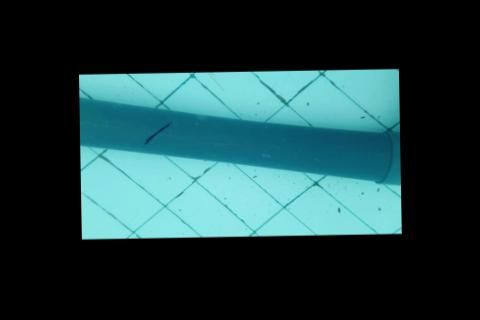keretakan: (142, 120, 172, 145)
